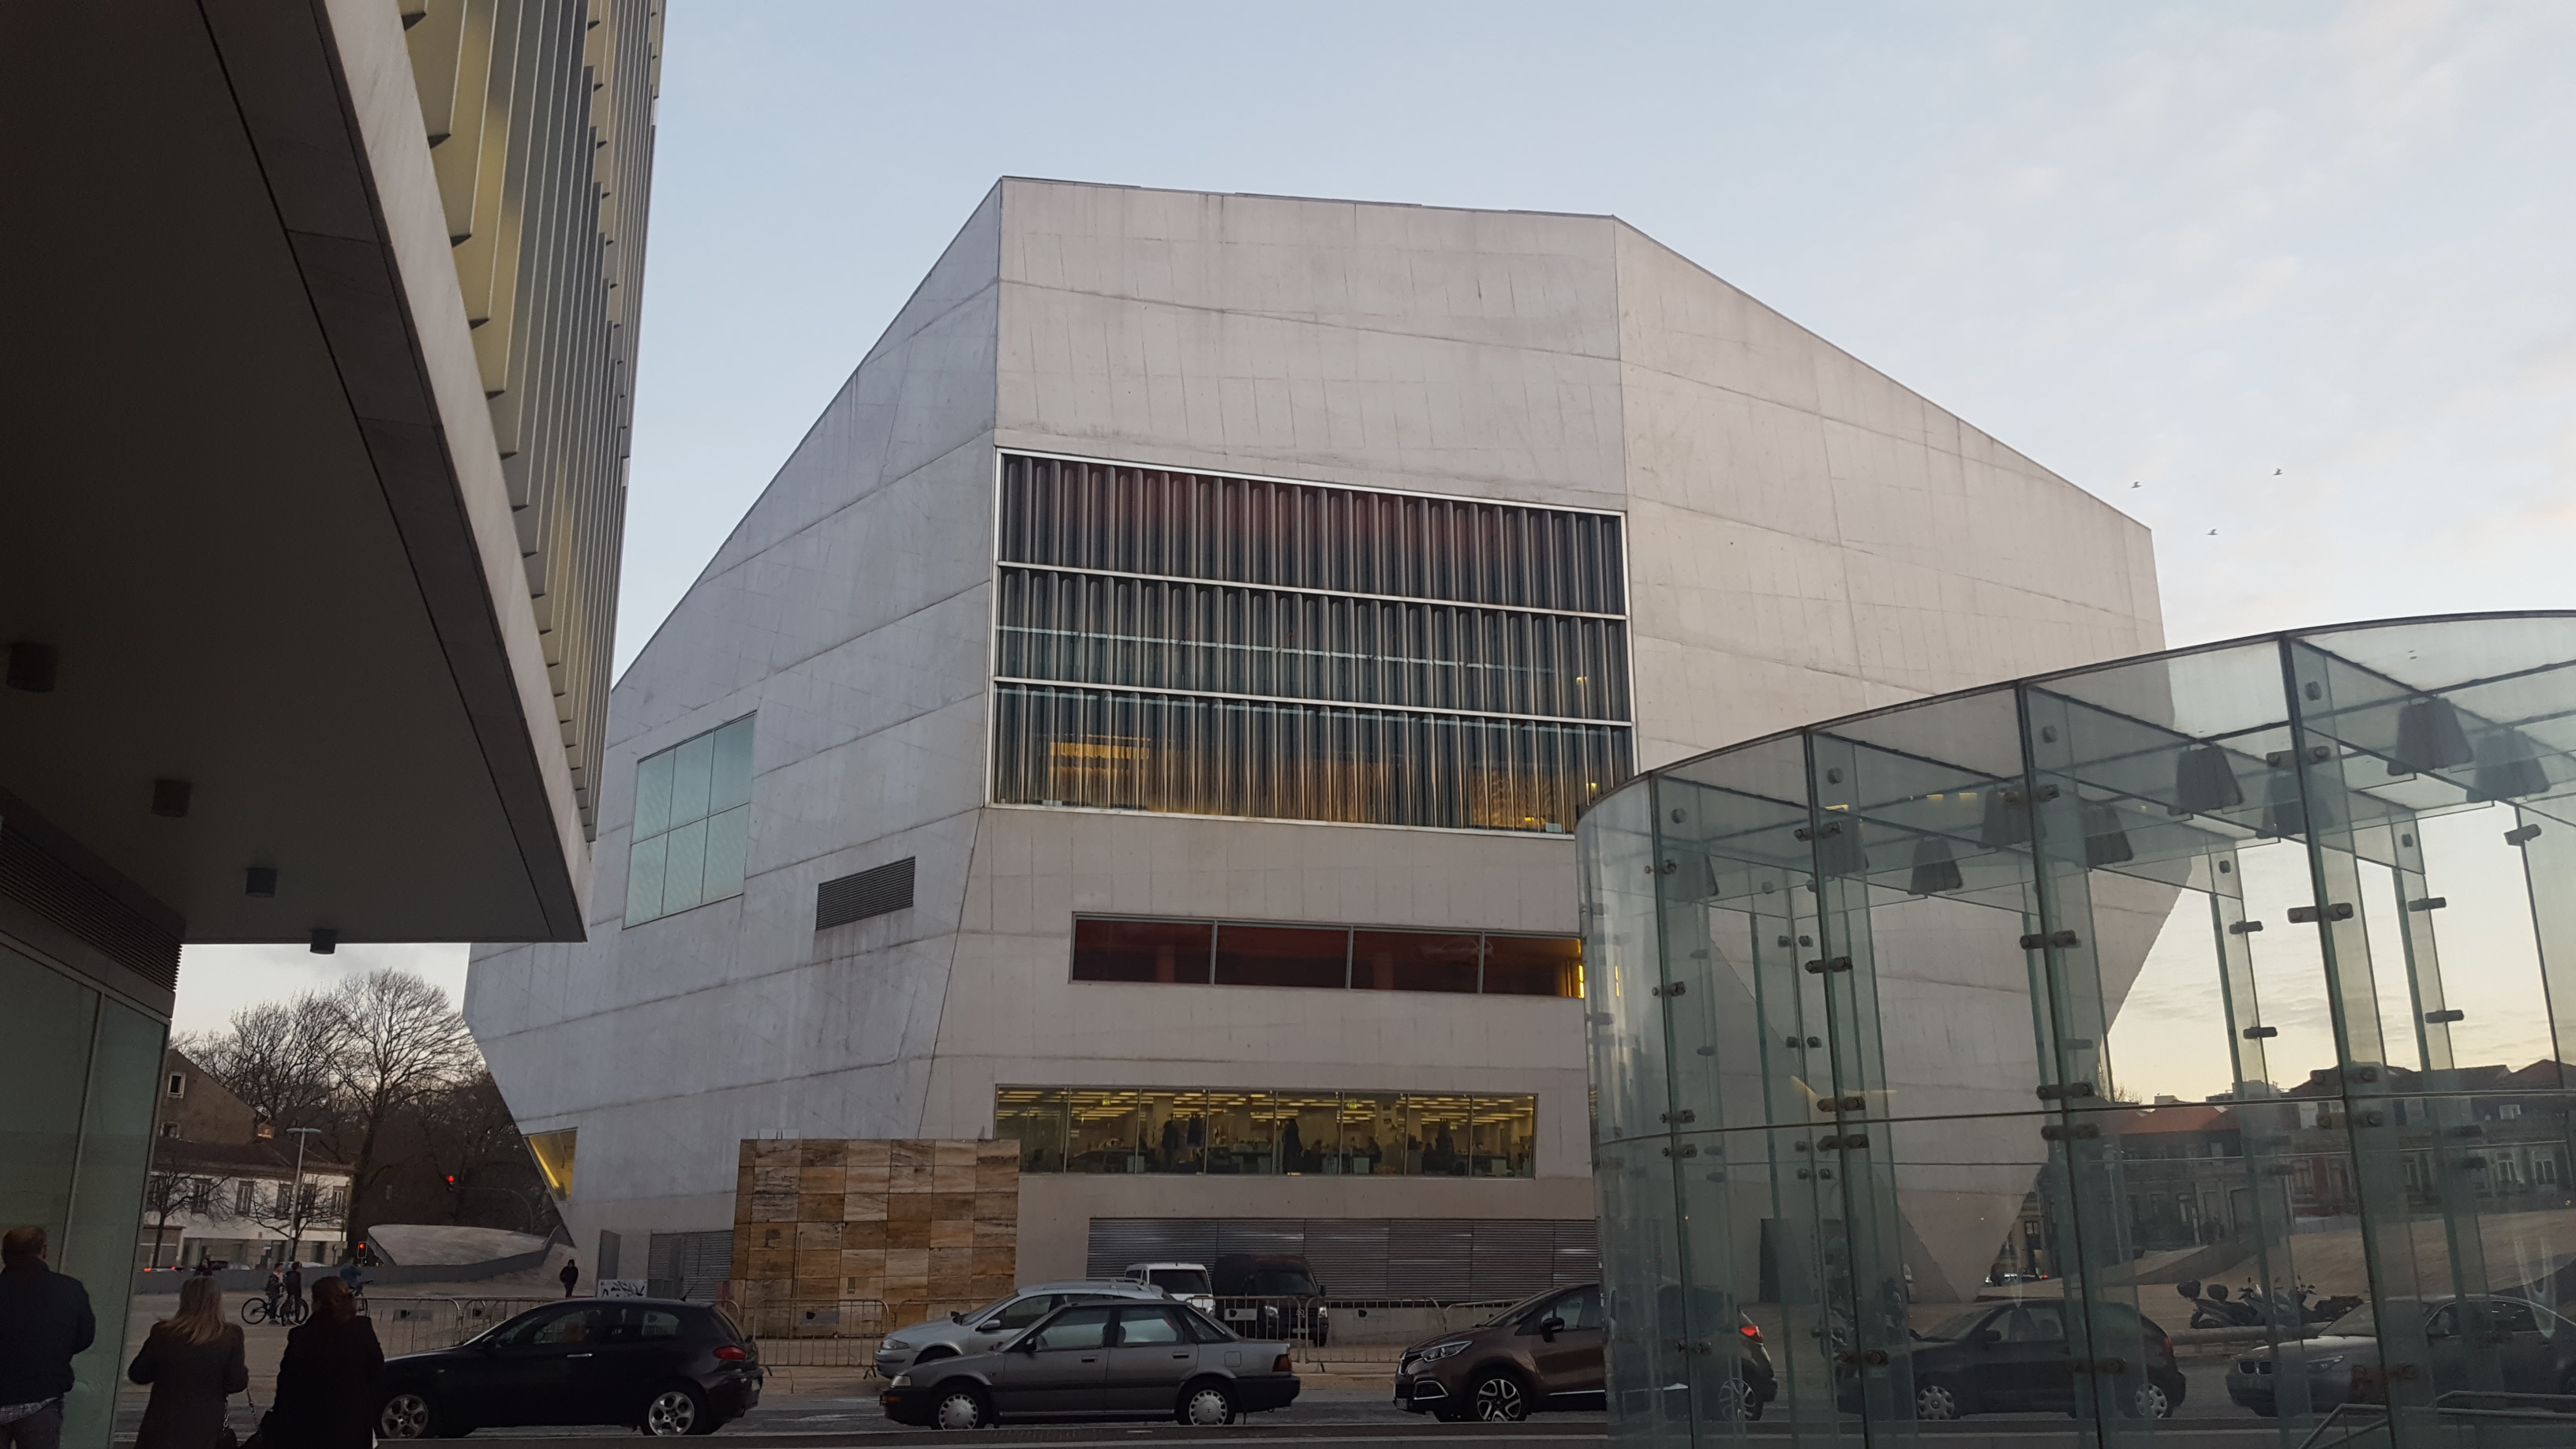musica: (577, 198, 1626, 1161)
